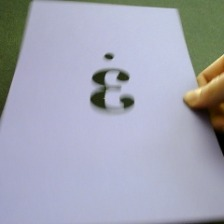violet3: (85, 49, 140, 117)
